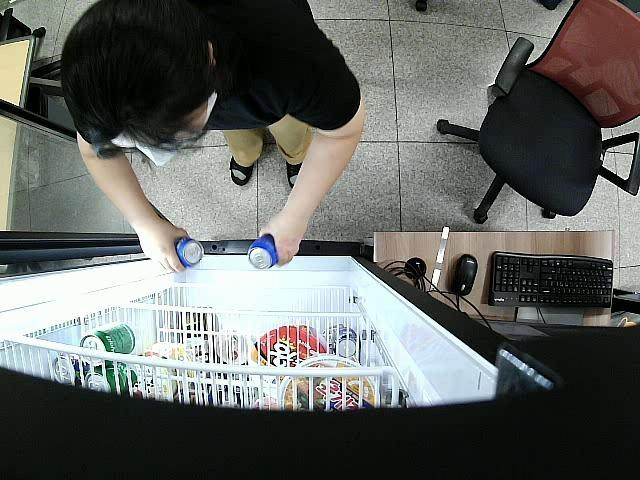13_pocariSweat: (248, 236, 279, 270), (177, 237, 204, 268)
